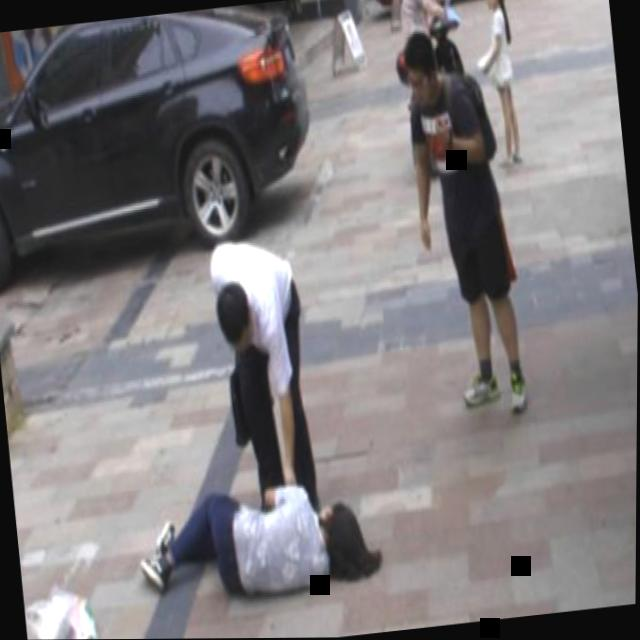Fall-Detected: (120, 449, 393, 612)
